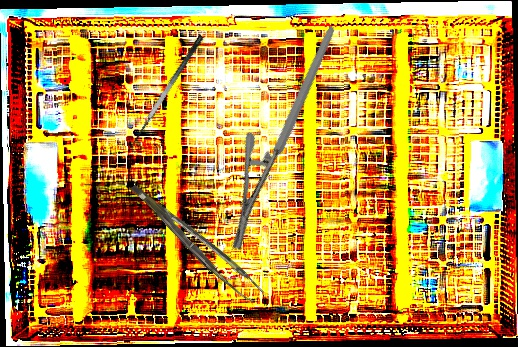Needle Holder: (173, 25, 396, 254)
Spatula Surgical: (124, 34, 214, 156)
Tissue Forceps: (130, 170, 265, 311)
